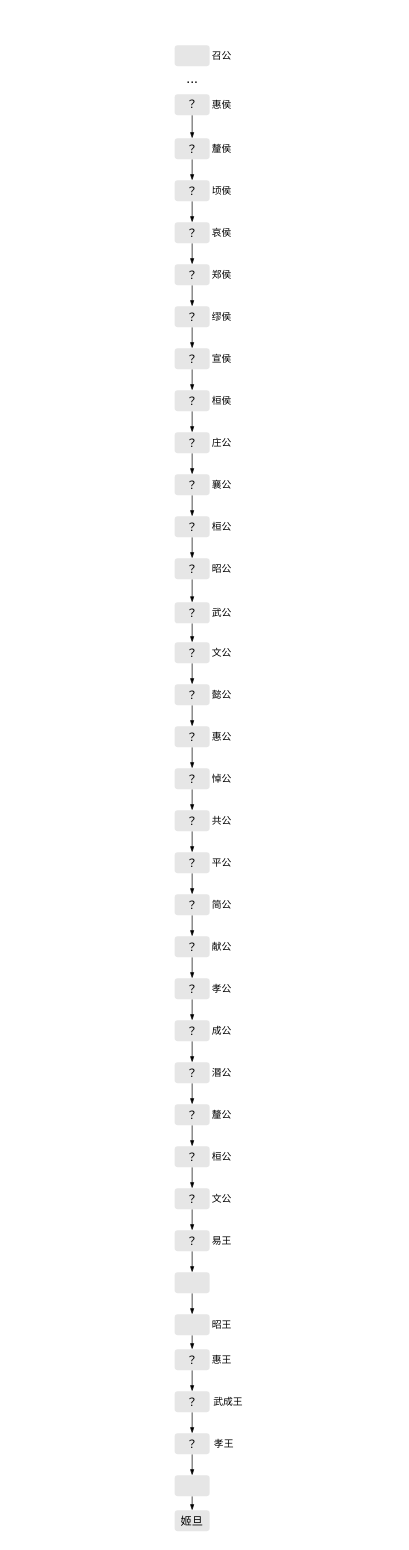
The diagram is 409 pixels wide and 1550 high, and some of its shapes have lost their labels. The shapes that lost their labels are listed below. From the top down, each one's box as (x1, y1, x2, y2) in pixels, then its label:
(174, 45, 209, 66): 姬奭
(174, 1272, 209, 1293): 燕哙
(174, 1314, 209, 1335): 姬平
(174, 1475, 209, 1496): 姬喜
